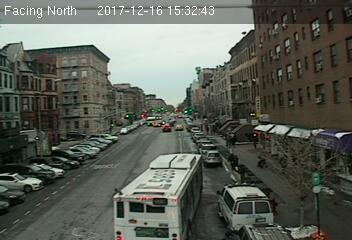bus: (111, 152, 203, 240)
car: (205, 151, 223, 164)
police: (215, 181, 276, 234)
